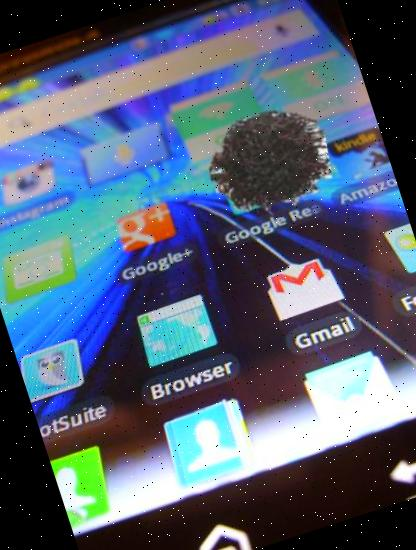Rambutan: (193, 88, 345, 240)
